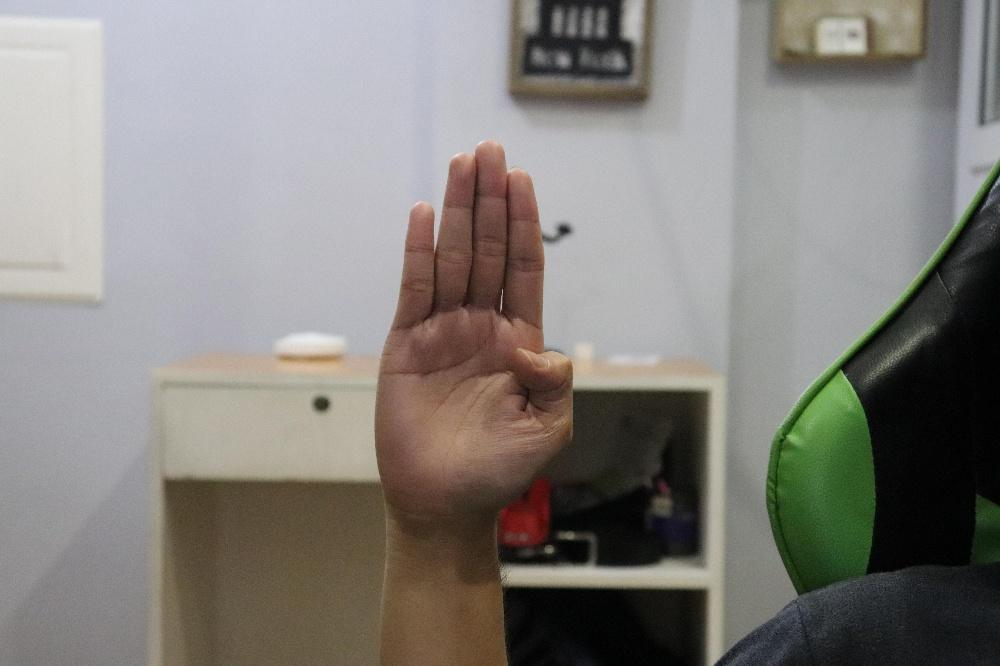b: (373, 138, 573, 517)
